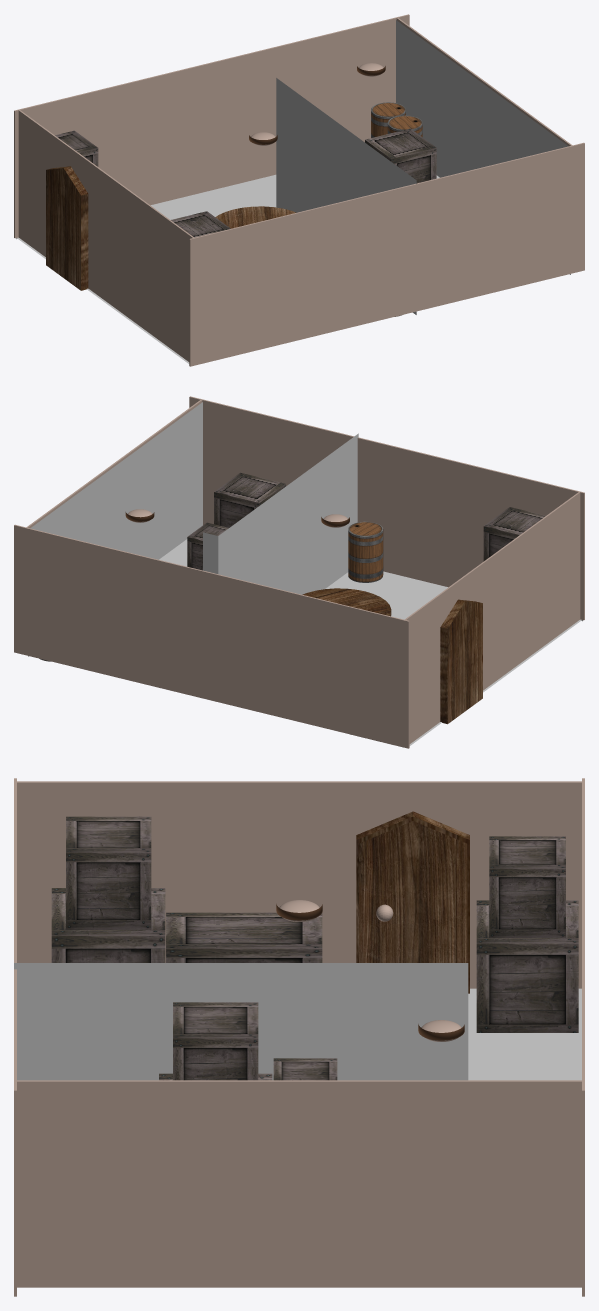
File: room2.gltf
3 views of the same model, one above another, from view 1: azimuth 30°, elevation 25°; view 2: azimuth 150°, elevation 25°; view 3: azimuth 270°, elevation 25° (orthographic). The views are drawn at different scales.
Parts seen in each view (by area): view 1: Wall_Block_2, Wall_Block_1, Wall_Block_4, Room, Wall, Door, Floor, BoxS1, Table, BoxS1.001, Barrel0, Wall_Block_3 (+2 smaller); view 2: Wall_Block_1, Wall_Block_2, Wall_Block_4, Wall, Room, Door, Floor, BoxS1, Barrel2, BoxS1.001, Table, BoxS0 (+1 smaller); view 3: Wall_Block_3, Wall_Block_4, Wall, Door, Box2.002, BoxS1.001, BoxS1.002, Box2.001, BoxS1, Floor, Box2, Wall_Block_1 (+2 smaller).
Part boxes in pixels (<box>): Wall_Block_2: <box>189,142,584,366</box>; Wall_Block_1: <box>14,14,409,238</box>; Wall_Block_4: <box>18,109,194,361</box>; Room: <box>16,20,570,274</box>; Wall: <box>276,78,416,314</box>; Door: <box>46,166,88,290</box>; Floor: <box>17,174,439,363</box>; BoxS1: <box>365,128,436,183</box>; Table: <box>215,206,296,228</box>; BoxS1.001: <box>171,211,230,237</box>; Barrel0: <box>371,102,405,137</box>; Wall_Block_3: <box>396,17,572,146</box>; Wall_Block_1: <box>14,524,409,748</box>; Wall_Block_2: <box>189,396,584,620</box>; Wall_Block_4: <box>405,491,580,743</box>; Wall: <box>203,433,358,594</box>; Room: <box>28,402,582,656</box>; Door: <box>440,599,482,724</box>; Floor: <box>159,539,581,745</box>; BoxS1: <box>214,472,285,527</box>; Barrel2: <box>348,521,383,582</box>; BoxS1.001: <box>483,507,545,561</box>; Table: <box>302,588,391,616</box>; BoxS0: <box>187,522,228,570</box>; Wall_Block_3: <box>15,1080,582,1287</box>; Wall_Block_4: <box>15,781,583,988</box>; Wall: <box>14,963,468,1080</box>; Door: <box>356,811,469,993</box>; Box2.002: <box>476,900,578,1032</box>; BoxS1.001: <box>66,816,151,929</box>; BoxS1.002: <box>489,836,565,937</box>; Box2.001: <box>166,912,322,962</box>; BoxS1: <box>173,1002,258,1080</box>; Floor: <box>468,988,581,1080</box>; Box2: <box>51,888,165,962</box>; Wall_Block_1: <box>582,778,584,1296</box>.
Bounding box in the file's own units: 26.23 × 8.5 × 20.1.
